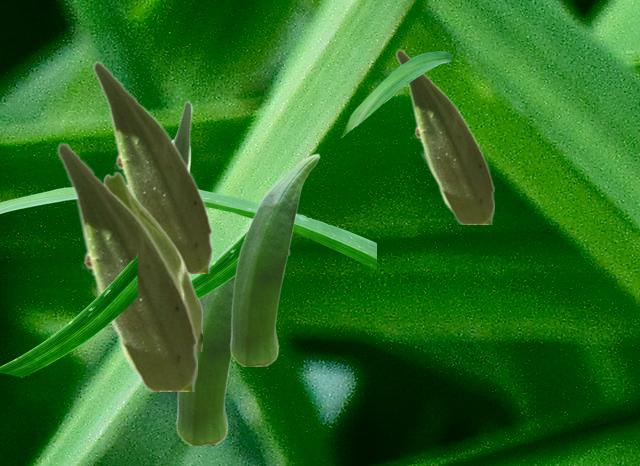okra: (56, 141, 196, 390), (92, 60, 211, 272), (229, 153, 319, 365), (103, 171, 201, 350), (395, 48, 493, 223), (175, 230, 246, 444), (173, 100, 191, 168)
